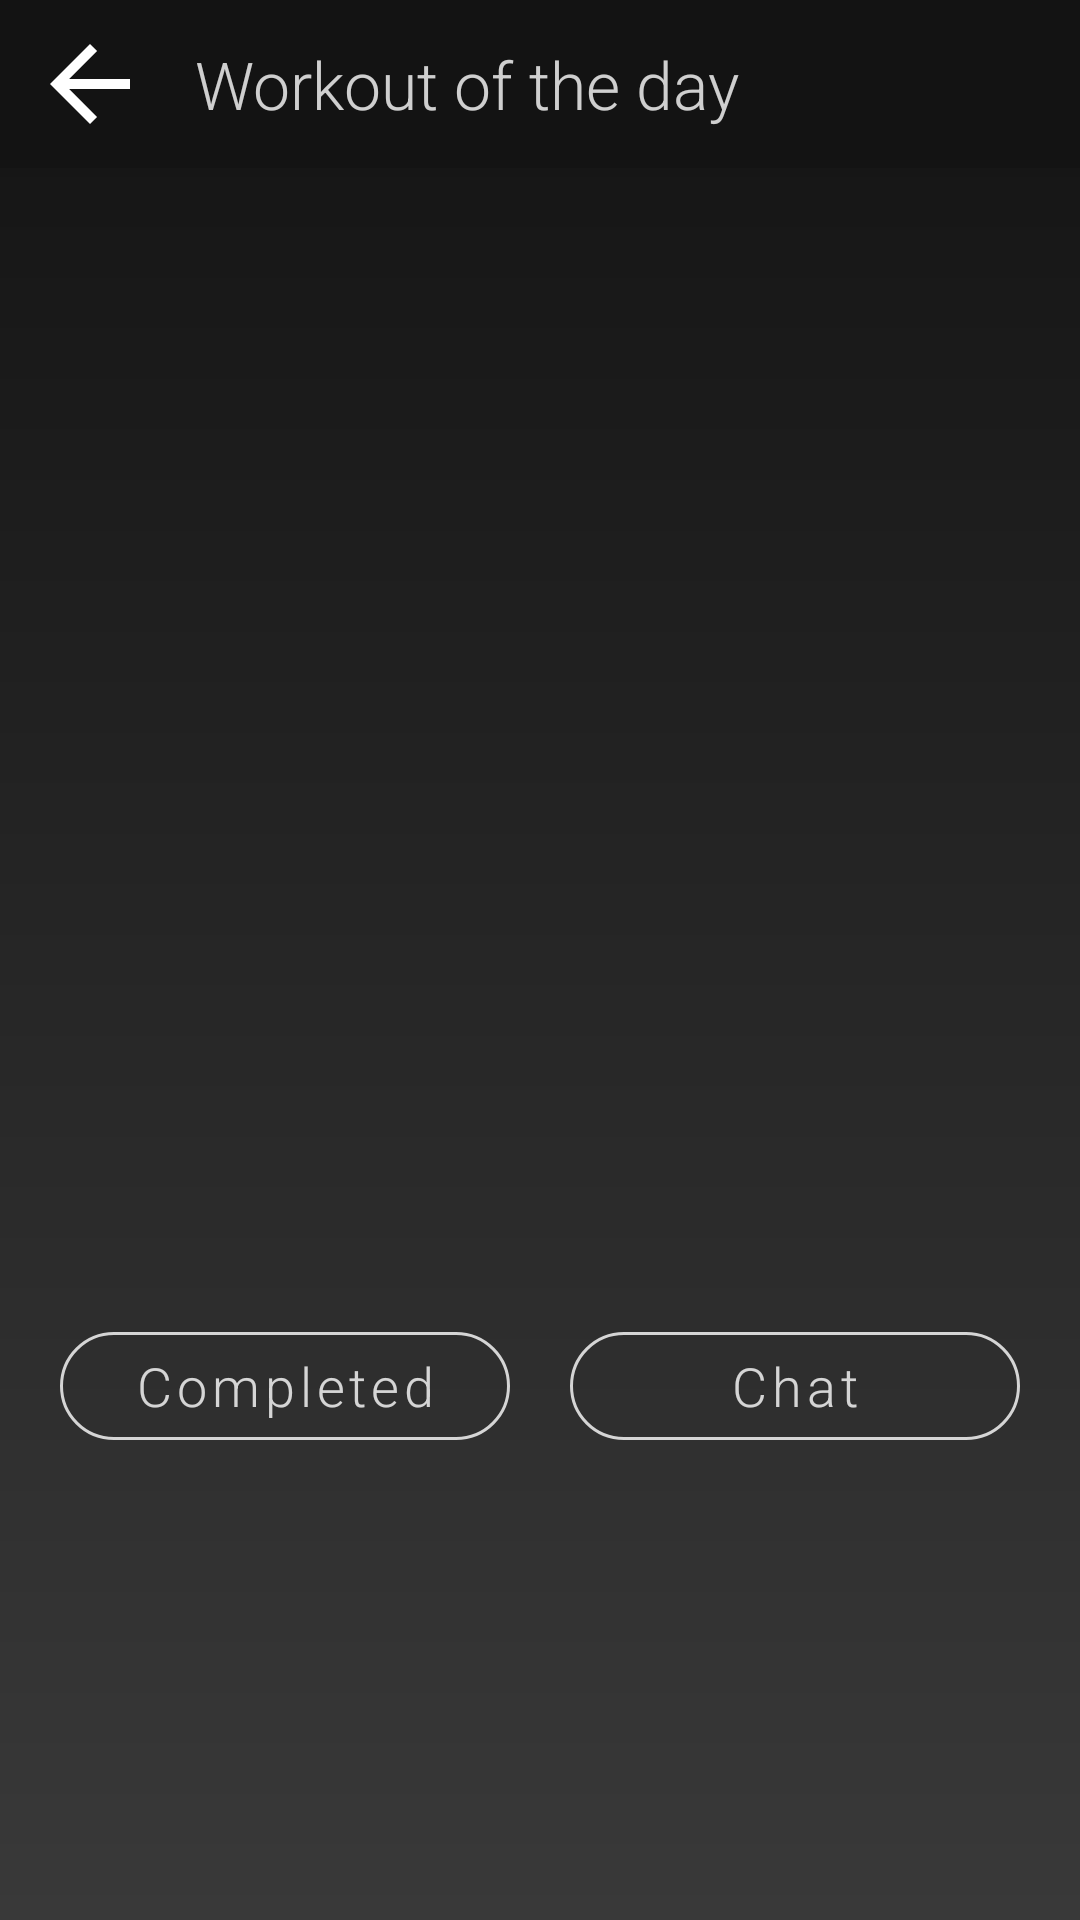

Named icons in this screenshot (1080px×1920px) and their centers, (x,y):
back: (90,84)
